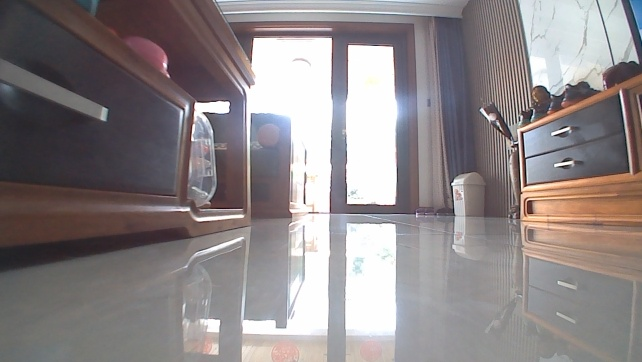tea_table1: (0, 0, 260, 269)
